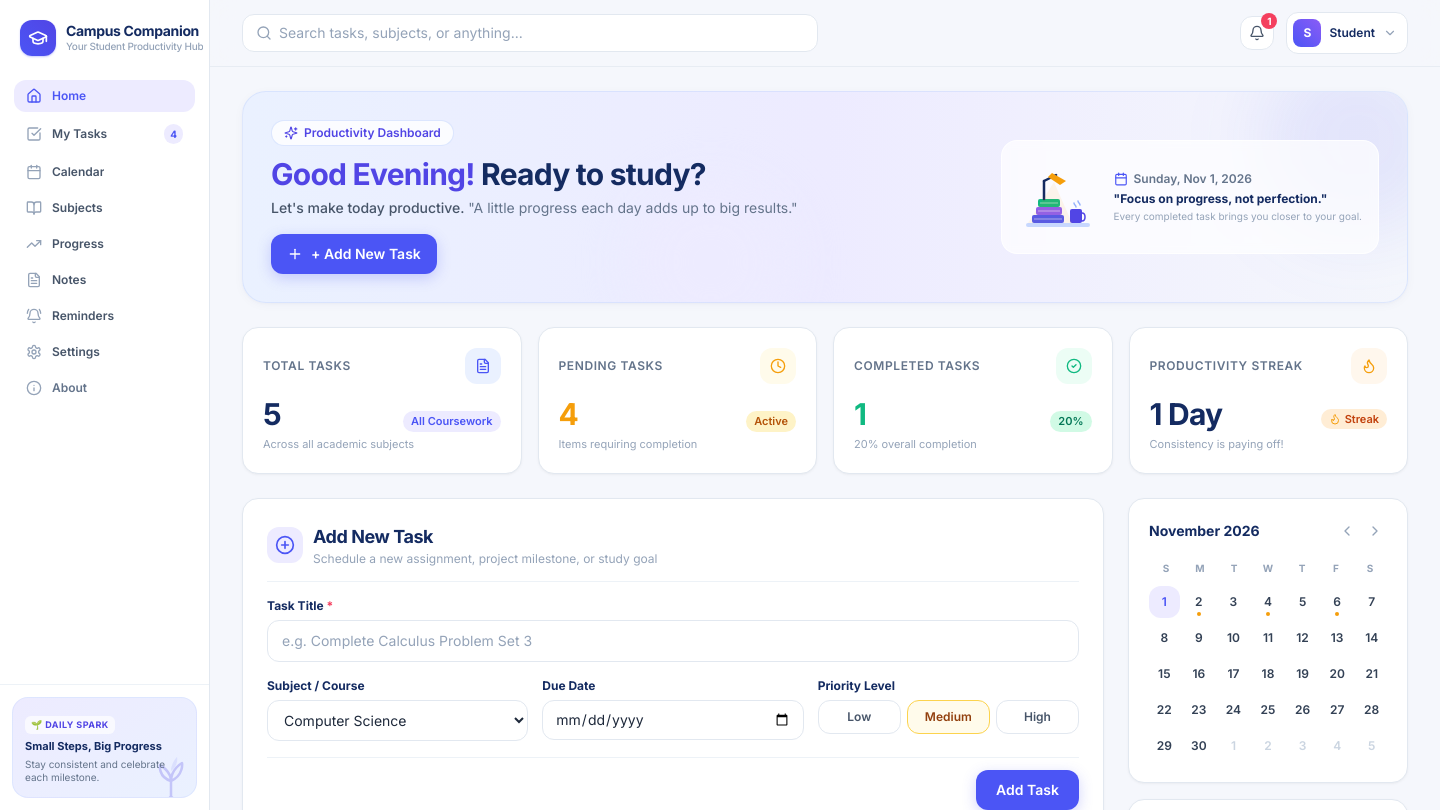
Scenario: Campus Companion Redesigned Dashboard › navigates to Notes view and allows creating a study note
Step 1. Click the button "Notes" → (104,280), box [14,264,195,296]
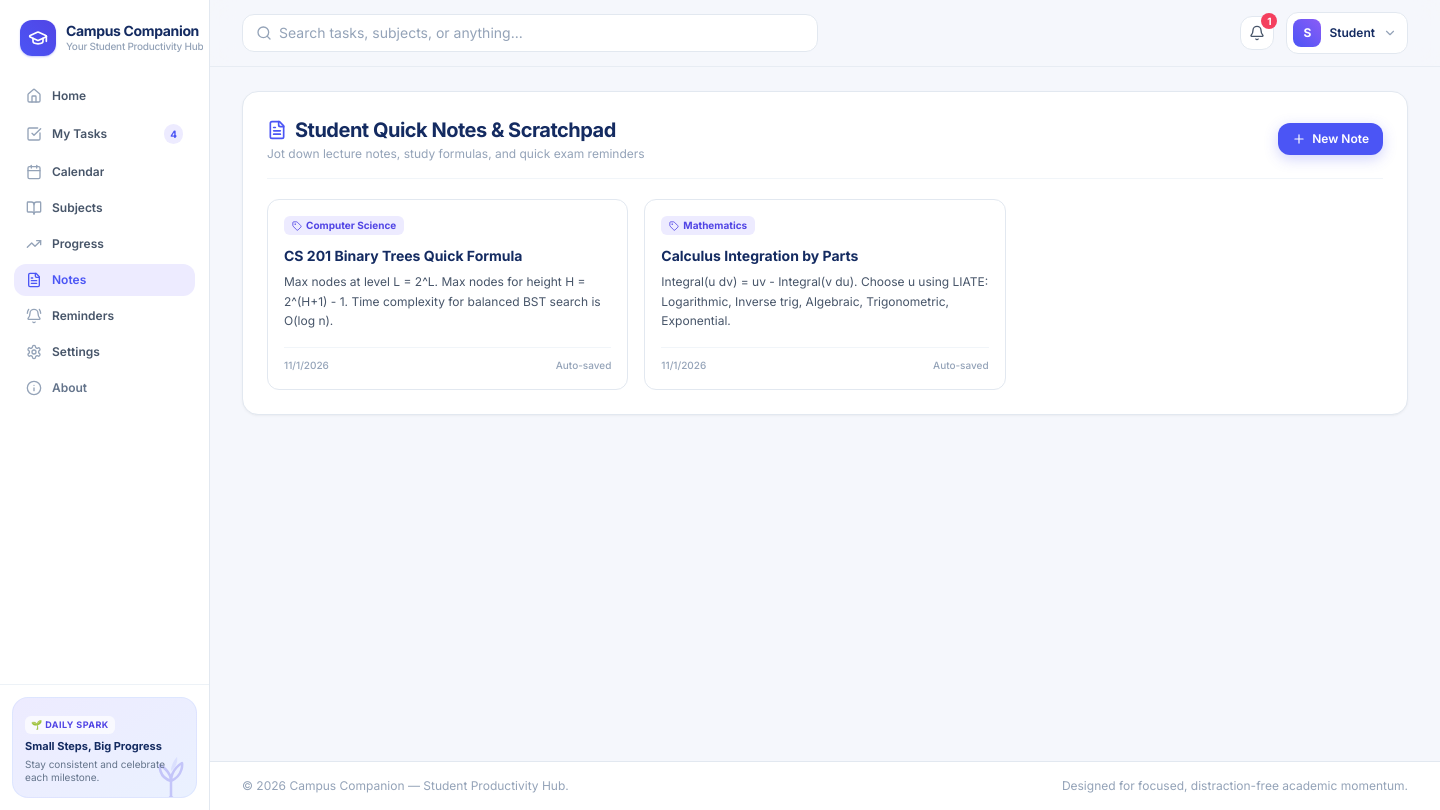
Expected: the text "Student Quick Notes & Scratchpad" is shown, [295,116,616,144]
Step 2. Click the button "New Note" → (1331,139), box [1278,123,1383,155]
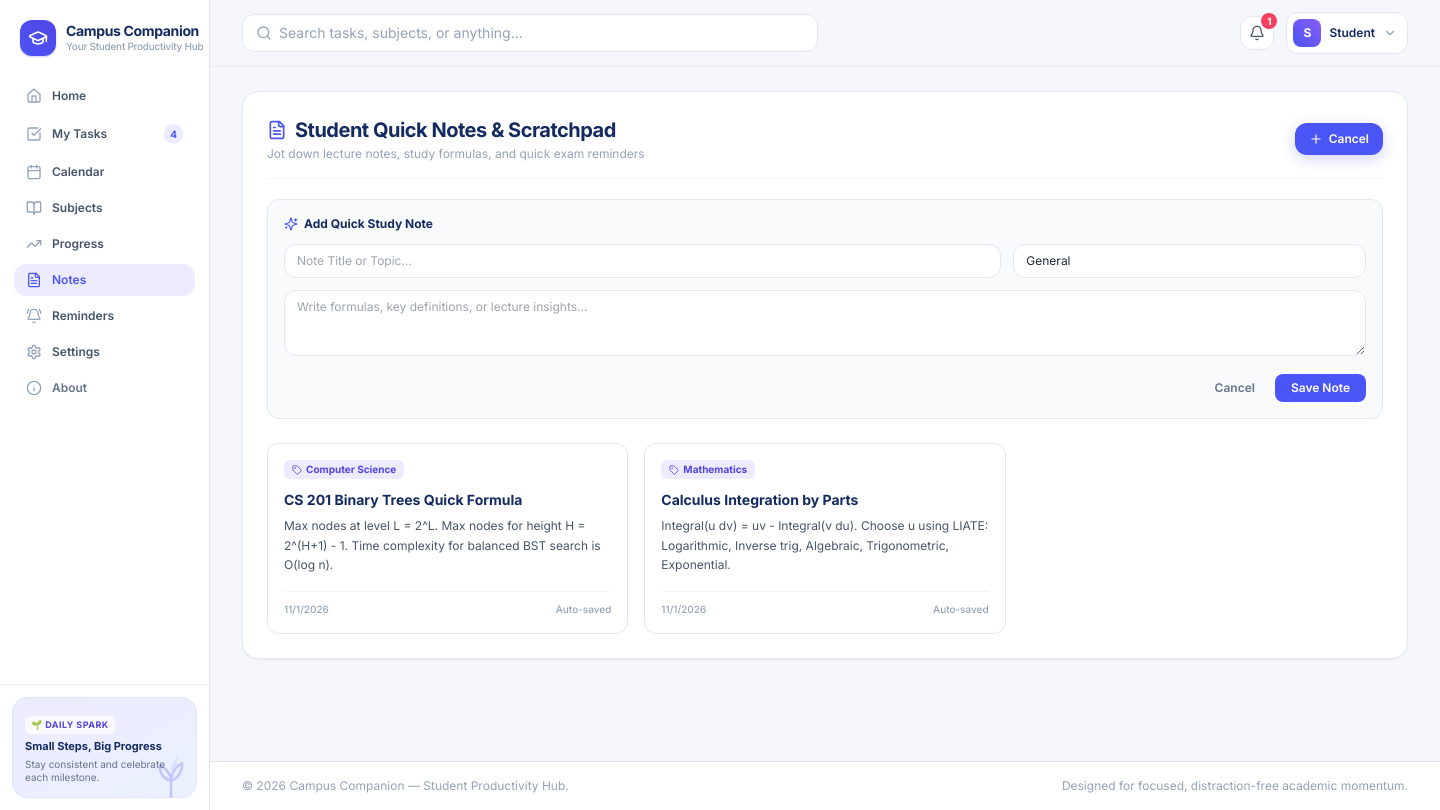
Step 3. Type "Exam Prep Summary" into the field with placeholder "Note Title or Topic..." → (643,261), box [284,244,1001,278]
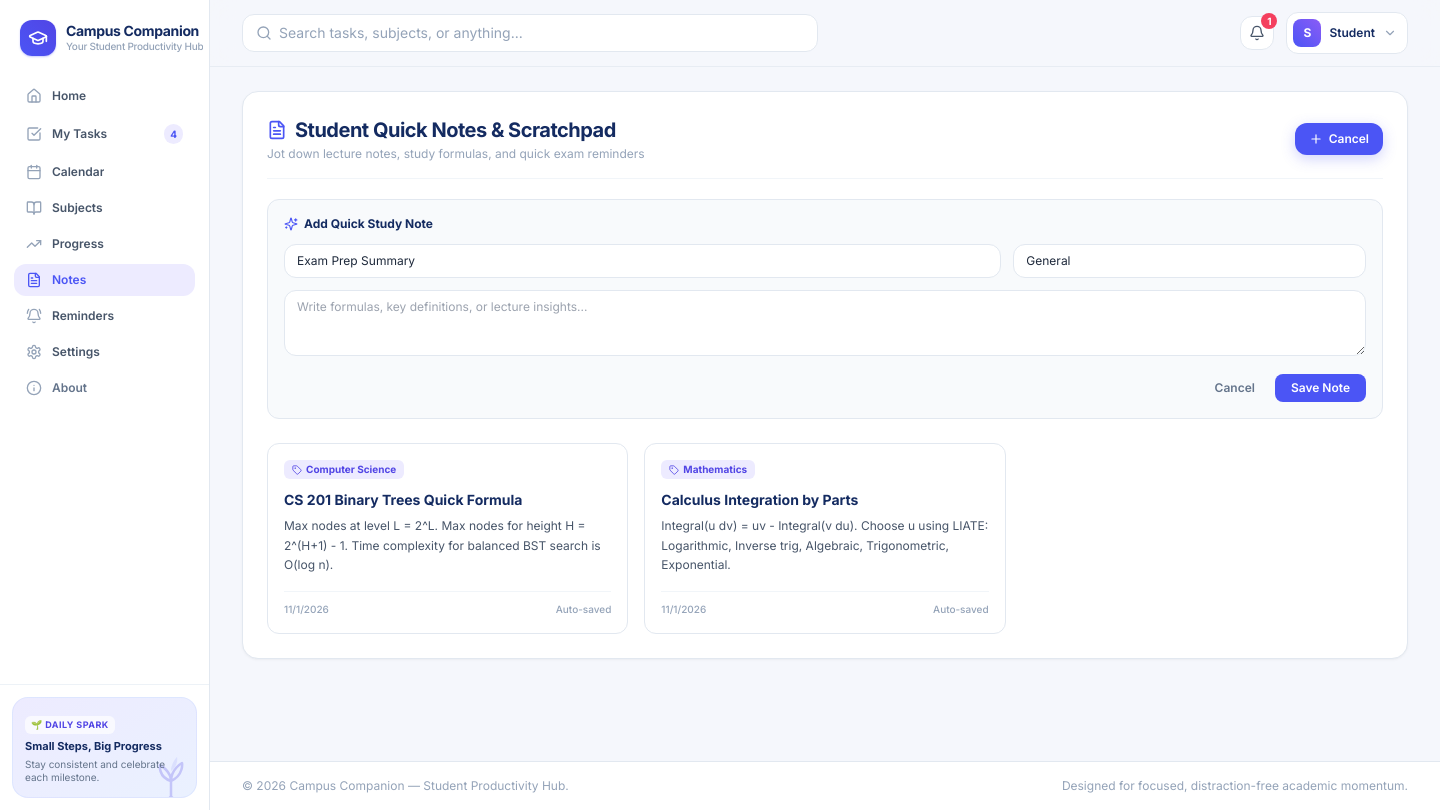
Step 4. Click the button "Save Note" → (1320,388), box [1275,374,1366,402]
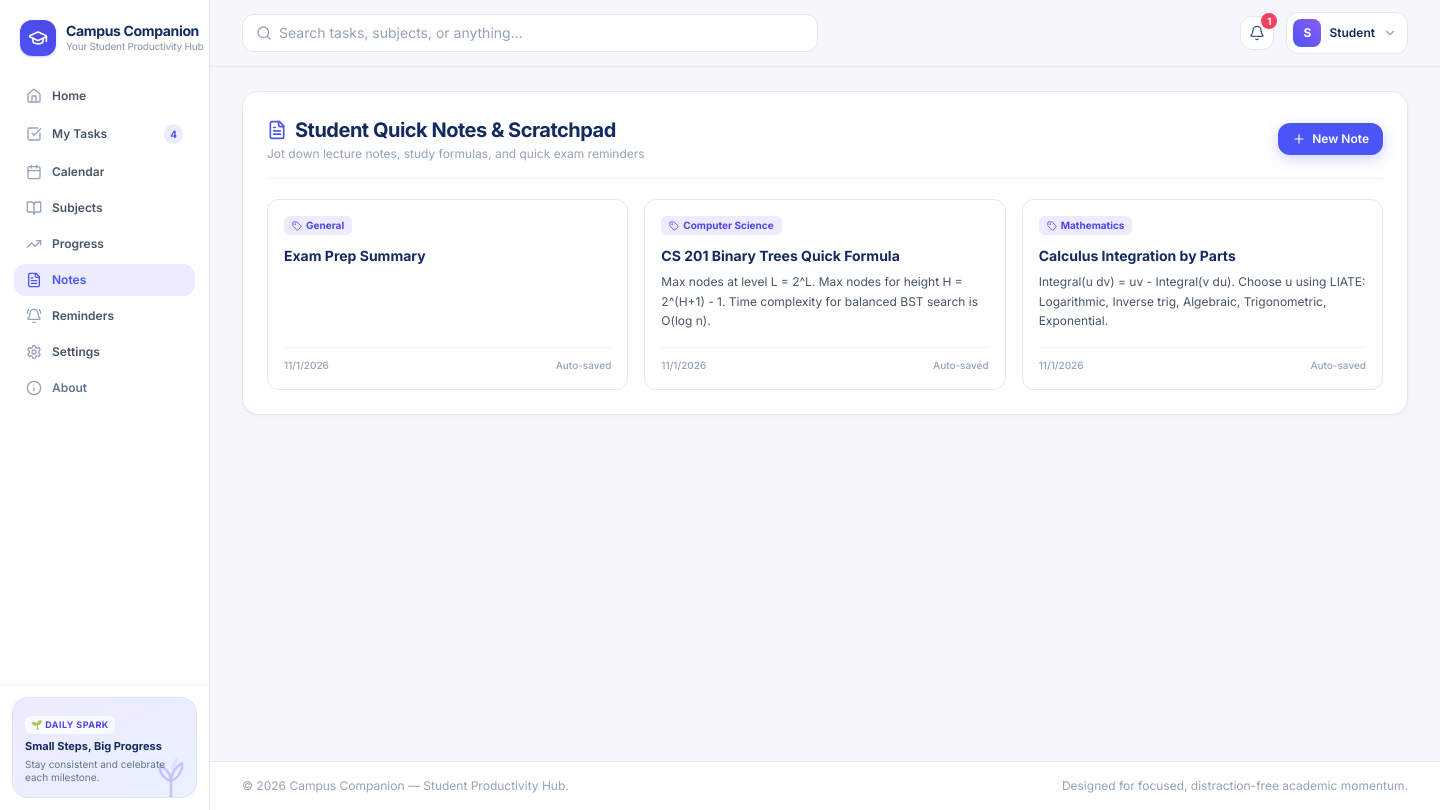
Expected: the heading "Exam Prep Summary" is shown, [284,247,426,264]
